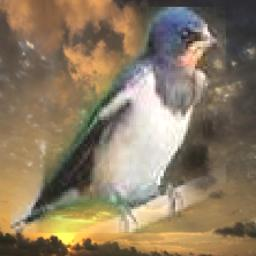Swallow: (12, 7, 227, 233)
